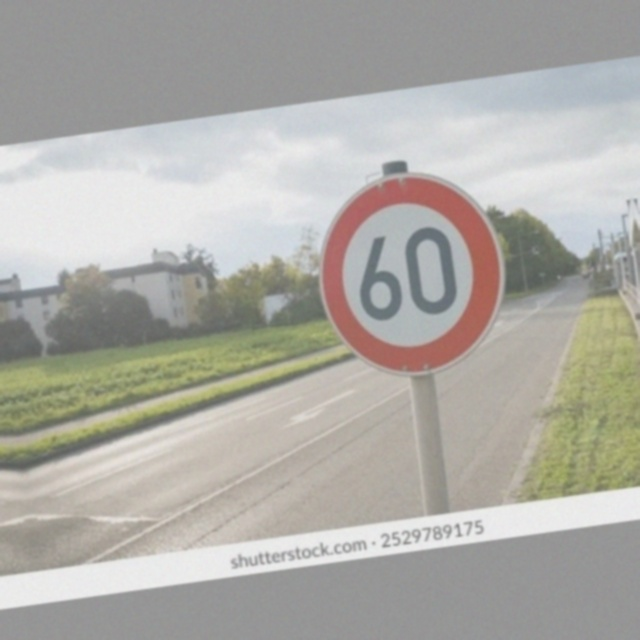Speed_Limit_60: (303, 161, 517, 384)
